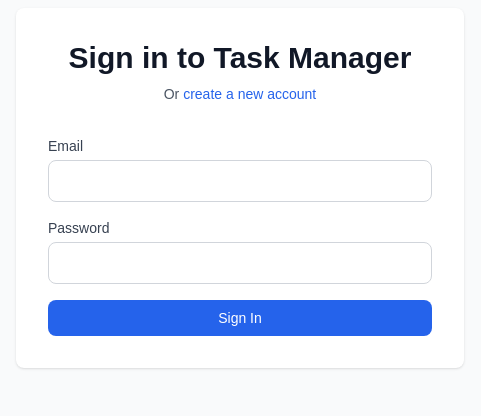
Test case: Authentication › Login › should show error for invalid credentials
Type "invalid@example.com" into the field with id "email".
click(240, 181); type("invalid@example.com")  # box [48, 160, 432, 202]
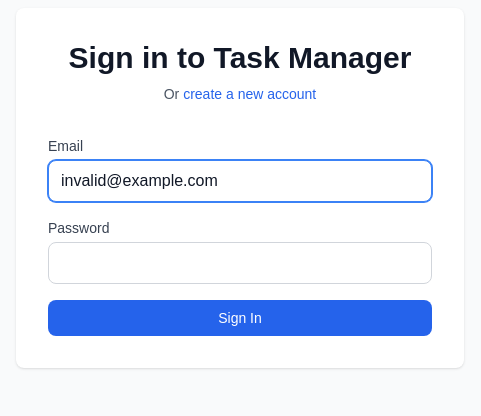
Type "wrongpassword" into the password field labelled "Password".
click(240, 263); type("wrongpassword")  # box [48, 242, 432, 284]
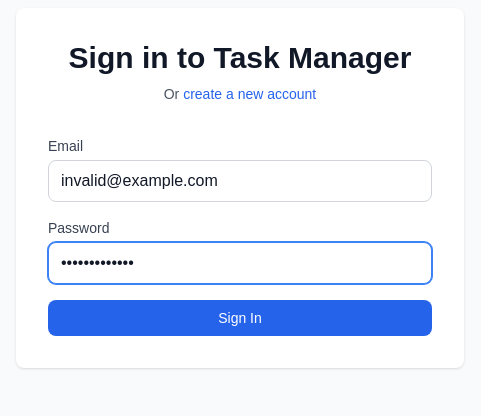
Click the submit button.
click(240, 318)  # box [48, 300, 432, 336]
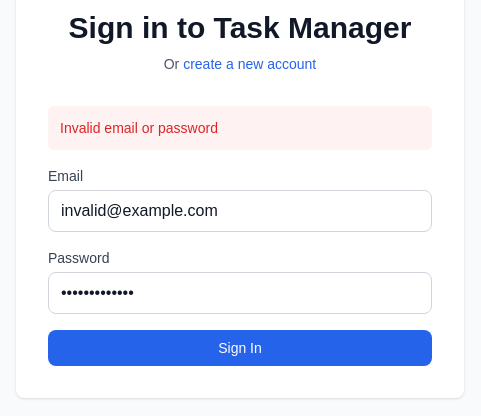
Check: the text "Invalid email or password" is shown, box [48, 106, 432, 150]
